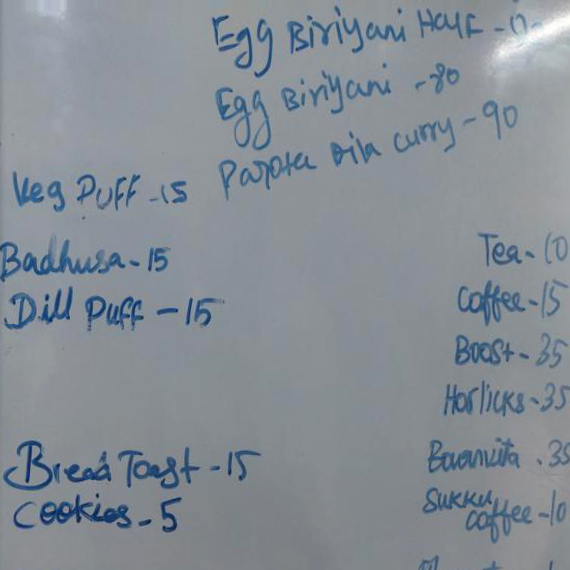Tea - 10: (468, 227, 570, 272)
badhusa -15: (1, 240, 184, 285)
boost - 35: (447, 331, 570, 374)
bournvita - 35: (422, 431, 570, 481)
bread toast - 15: (4, 436, 272, 492)
coffee - 15: (450, 276, 570, 324)
cookies - 5: (11, 492, 201, 544)
dill puff - 15: (5, 292, 235, 338)
egg briyani - 80: (207, 65, 404, 126)
egg briyani half -50: (208, 5, 554, 54)
horlicks - 35: (439, 380, 570, 424)
parotta - 90: (209, 126, 459, 198)
sukku coffee - 10: (419, 486, 570, 539)
veg puff - 15: (6, 165, 195, 220)
